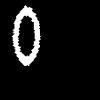chain: (12, 6, 39, 65)
